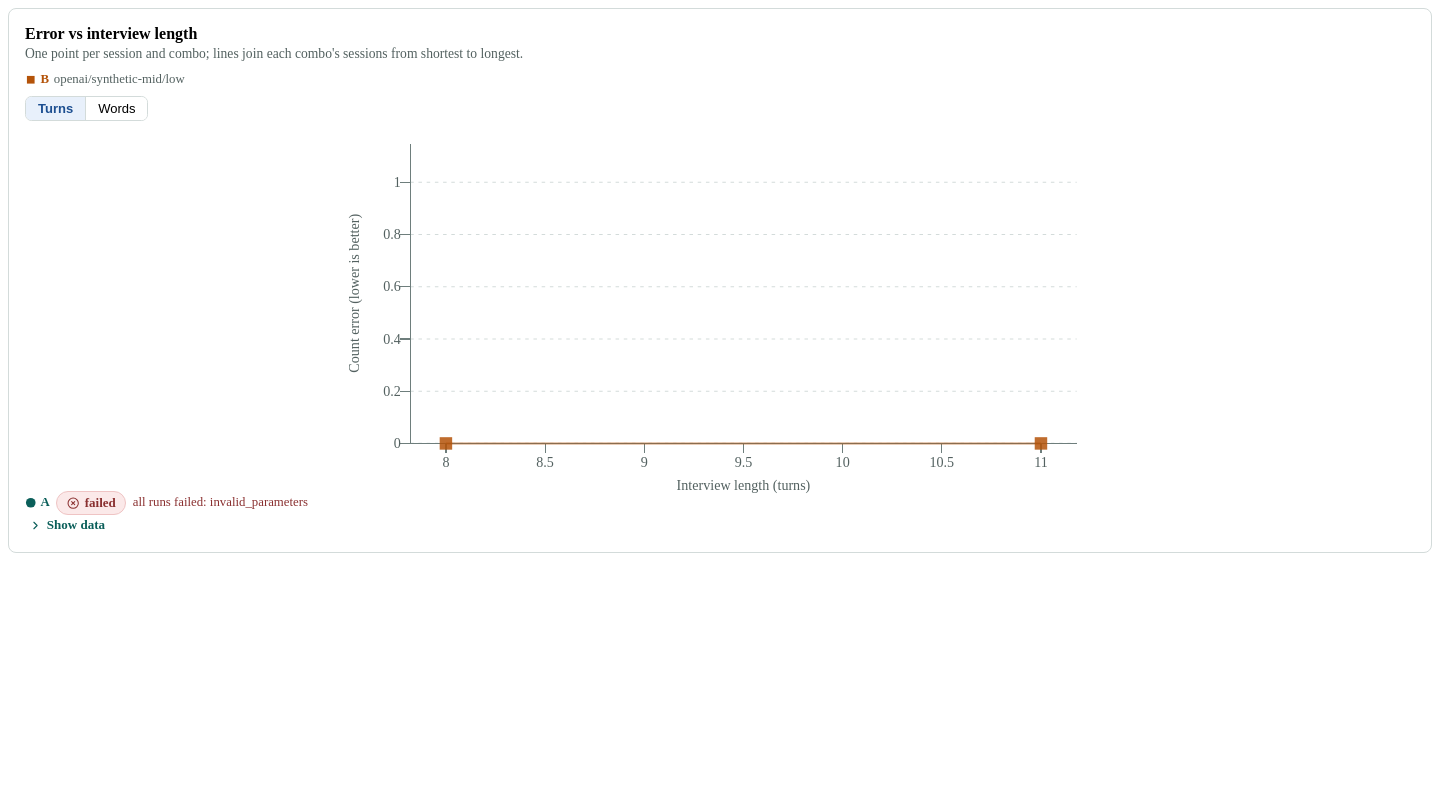
Test: keeps failed combos out of the plot, lists them, and keeps the table twin collapsed
Expected: the text "failed" is shown, top-left (56, 491), bottom-right (126, 515)
Click the button "Show data" at (67, 525), box top-left (25, 515), bottom-right (109, 536)
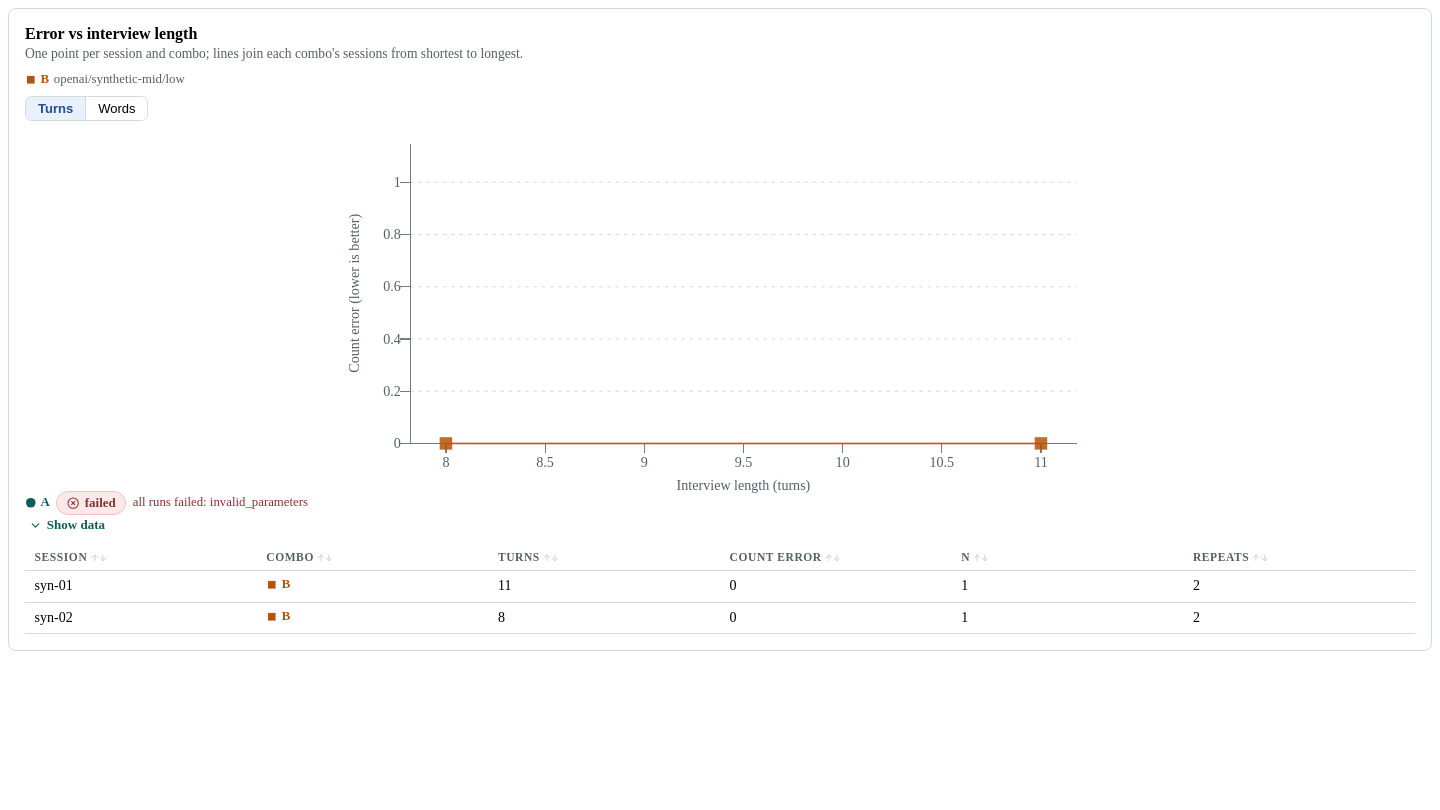
Expected: the table named "Error vs length" is shown, top-left (25, 544), bottom-right (1415, 634)
